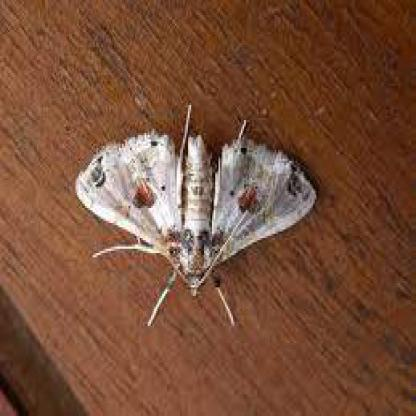leucinodes: (75, 133, 316, 295)
